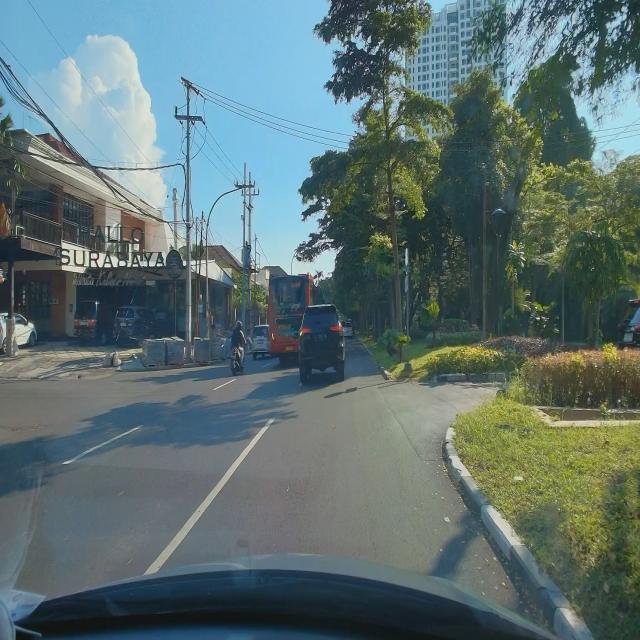bus: (268, 272, 322, 367)
car: (298, 303, 346, 386)
license-plate: (314, 332, 328, 341)
